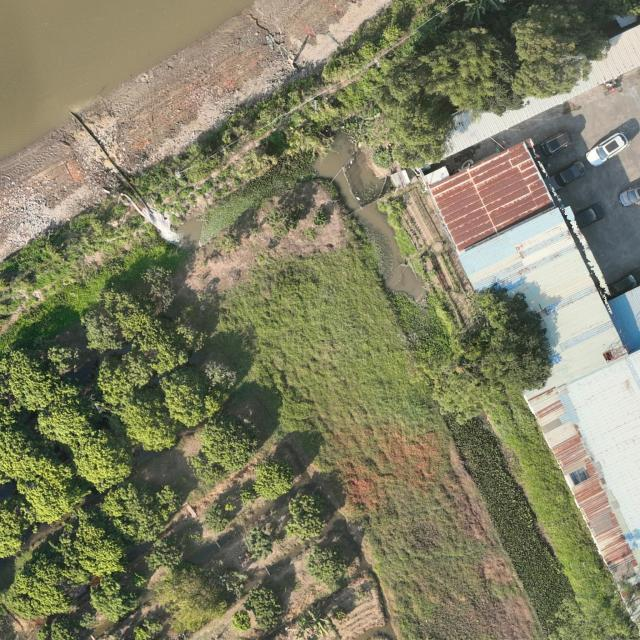tree: (507, 0, 613, 106), (411, 28, 524, 126), (455, 286, 554, 397), (150, 563, 229, 635), (0, 347, 85, 412), (48, 518, 130, 585), (98, 483, 182, 545), (15, 462, 94, 526), (3, 552, 72, 621), (0, 406, 53, 484), (70, 427, 136, 488), (160, 366, 223, 426), (200, 410, 260, 470), (94, 352, 154, 407), (120, 402, 178, 454), (87, 575, 140, 622), (36, 404, 96, 444), (304, 543, 351, 594), (282, 492, 328, 539), (250, 456, 296, 502), (243, 584, 284, 632), (0, 504, 29, 560), (143, 538, 187, 572), (242, 525, 274, 562), (45, 343, 84, 368), (206, 360, 239, 388), (231, 610, 251, 632)
